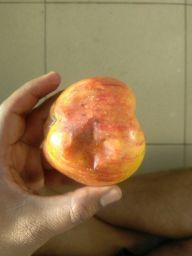Apple Semirotten: (41, 76, 146, 184)
